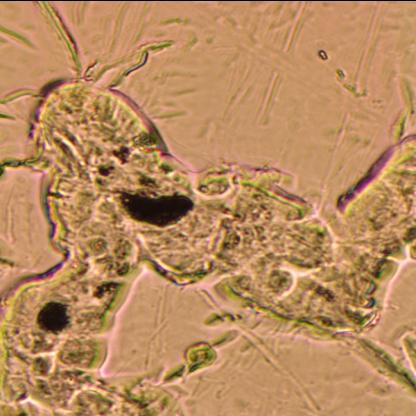Normal: (0, 99, 416, 338), (0, 81, 202, 416)
